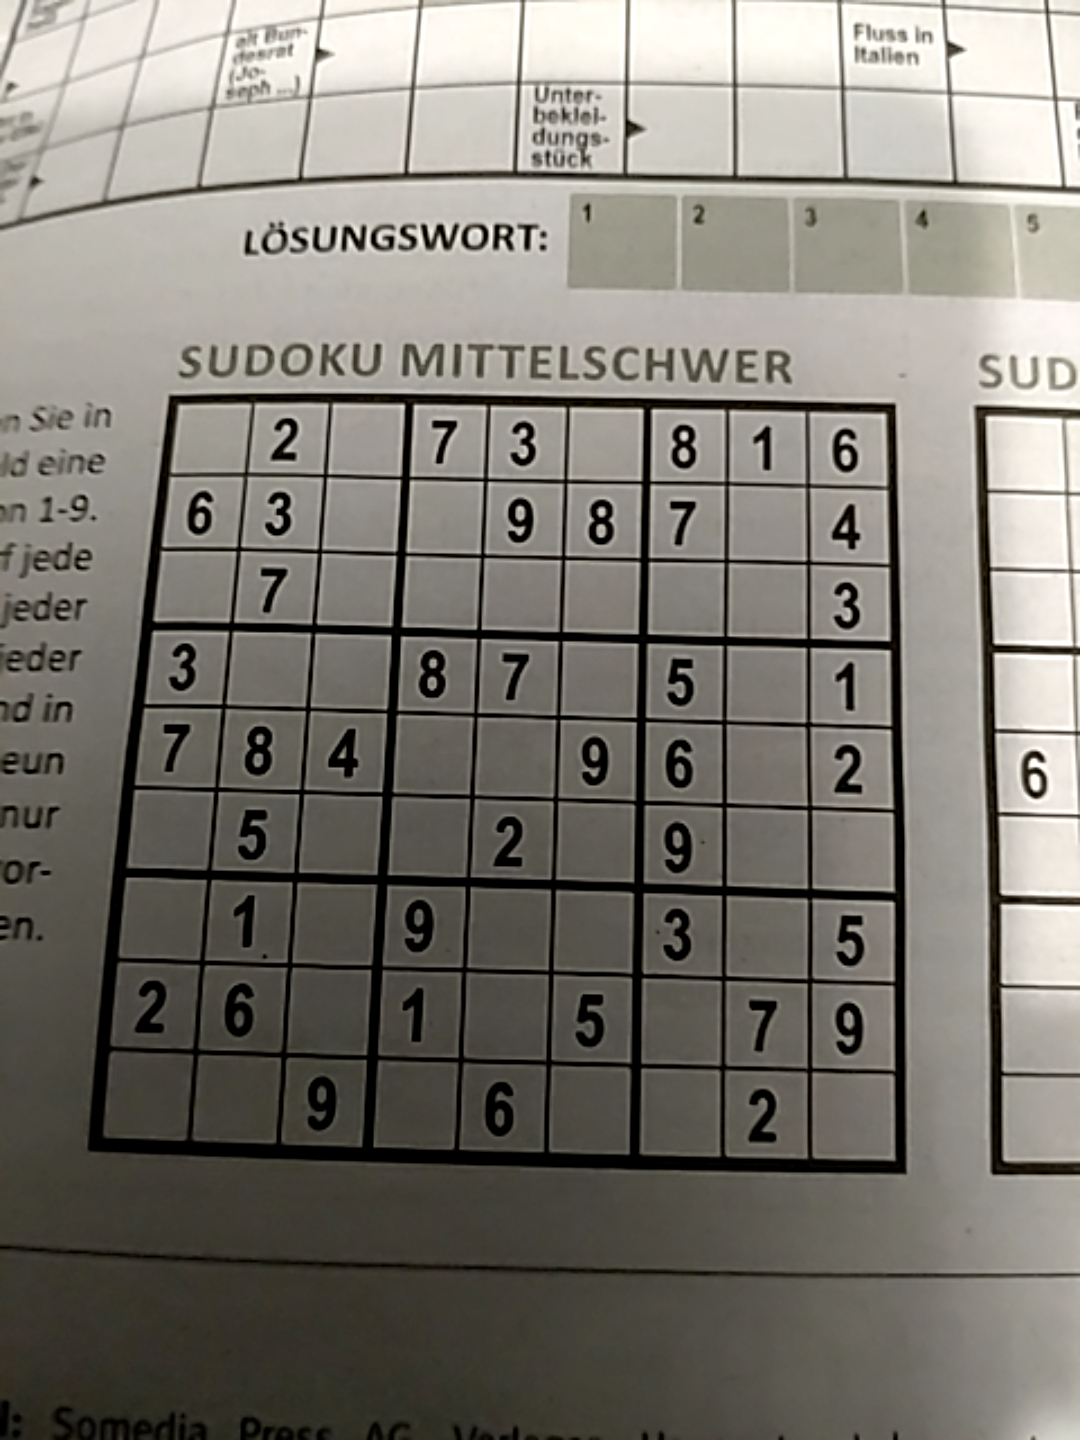sudoku: (82, 393, 908, 1176)
